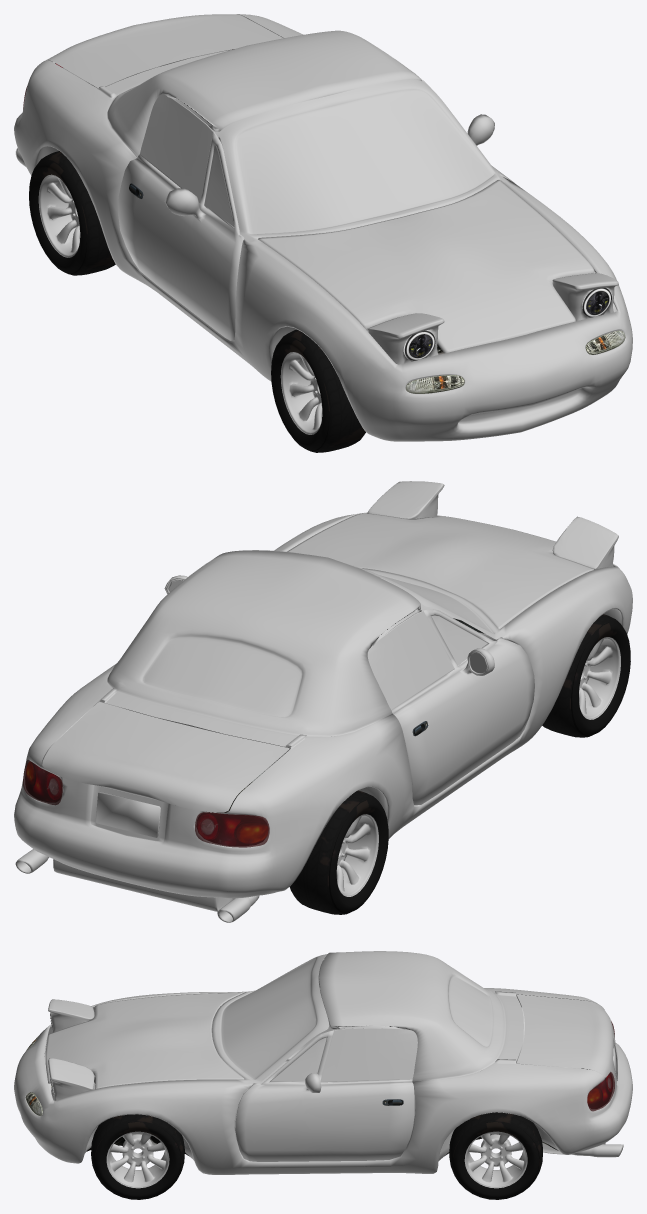
The picture shows the model from 3 angles, top to bottom: view 1: azimuth 30°, elevation 25°; view 2: azimuth 150°, elevation 25°; view 3: azimuth 270°, elevation 25°; orthographic projection. The views are drawn at different scales.
Parts seen in each view (by area): view 1: Body.002_8, Hood_4, Door_6, Trunk_0, Frontwheels_10, RearWheels_9, LightsUp_3, Front lows_5; view 2: Body.002_8, Door_6, Hood_4, Trunk_0, RearWheels_9, Frontwheels_10, LightsUp_3, RearLights_1, Exhaust_7; view 3: Body.002_8, Door_6, Hood_4, RearWheels_9, Frontwheels_10, Trunk_0, LightsUp_3, RearLights_1, Exhaust_7.
Boxes of the visible parts, x1,y1,x2,y2 form: Body.002_8: [14, 14, 632, 441]; Hood_4: [258, 180, 594, 353]; Door_6: [118, 58, 515, 340]; Trunk_0: [46, 14, 283, 88]; Frontwheels_10: [271, 329, 365, 452]; RearWheels_9: [29, 151, 115, 275]; LightsUp_3: [367, 273, 618, 364]; Front lows_5: [405, 330, 625, 393]; Body.002_8: [14, 512, 632, 898]; Door_6: [164, 561, 534, 805]; Hood_4: [287, 513, 594, 628]; Trunk_0: [42, 702, 289, 812]; RearWheels_9: [290, 790, 388, 914]; Frontwheels_10: [542, 614, 630, 737]; LightsUp_3: [367, 481, 618, 569]; RearLights_1: [23, 759, 269, 847]; Exhaust_7: [15, 849, 259, 922]; Body.002_8: [14, 951, 632, 1174]; Door_6: [235, 958, 417, 1161]; Hood_4: [45, 992, 244, 1089]; RearWheels_9: [449, 1112, 542, 1199]; Frontwheels_10: [91, 1114, 184, 1199]; Trunk_0: [517, 994, 613, 1077]; LightsUp_3: [48, 999, 95, 1100]; RearLights_1: [587, 1021, 614, 1111]; Exhaust_7: [542, 1069, 623, 1157].
Size of the model in its own units: 2 by 1.35 by 4.41.
